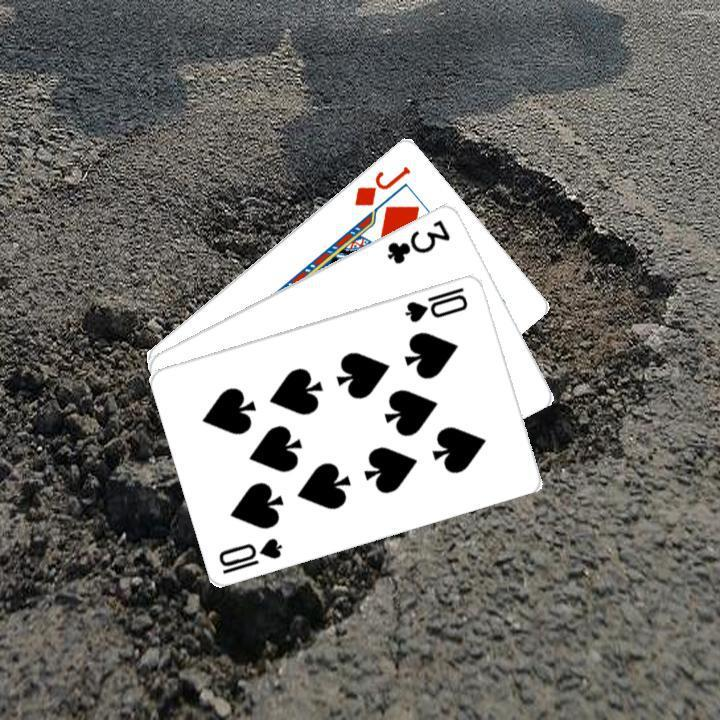10: (214, 533, 285, 575), (400, 282, 470, 324)
3: (382, 214, 453, 266)
J: (349, 161, 413, 208)
